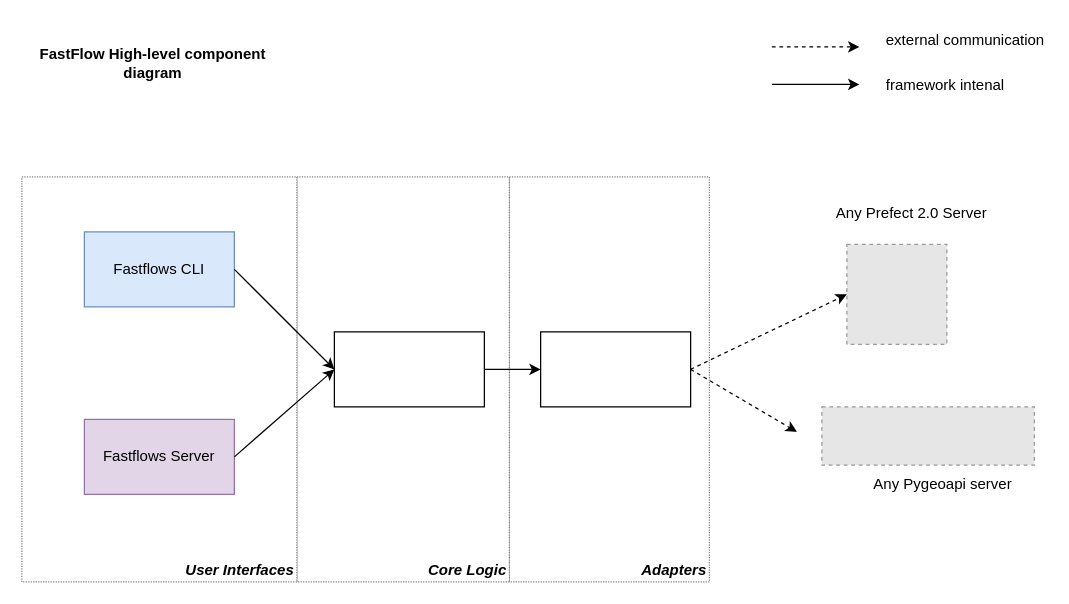
Some shapes in this 1069 by 604 pixel diagram are drawn without their labels. Grey dashed boxes stand in for pictures. Each missing label, with the centre of its shape:
Fastflows.Core: (x=408, y=369)
Fastflows.Provider: (x=615, y=369)
